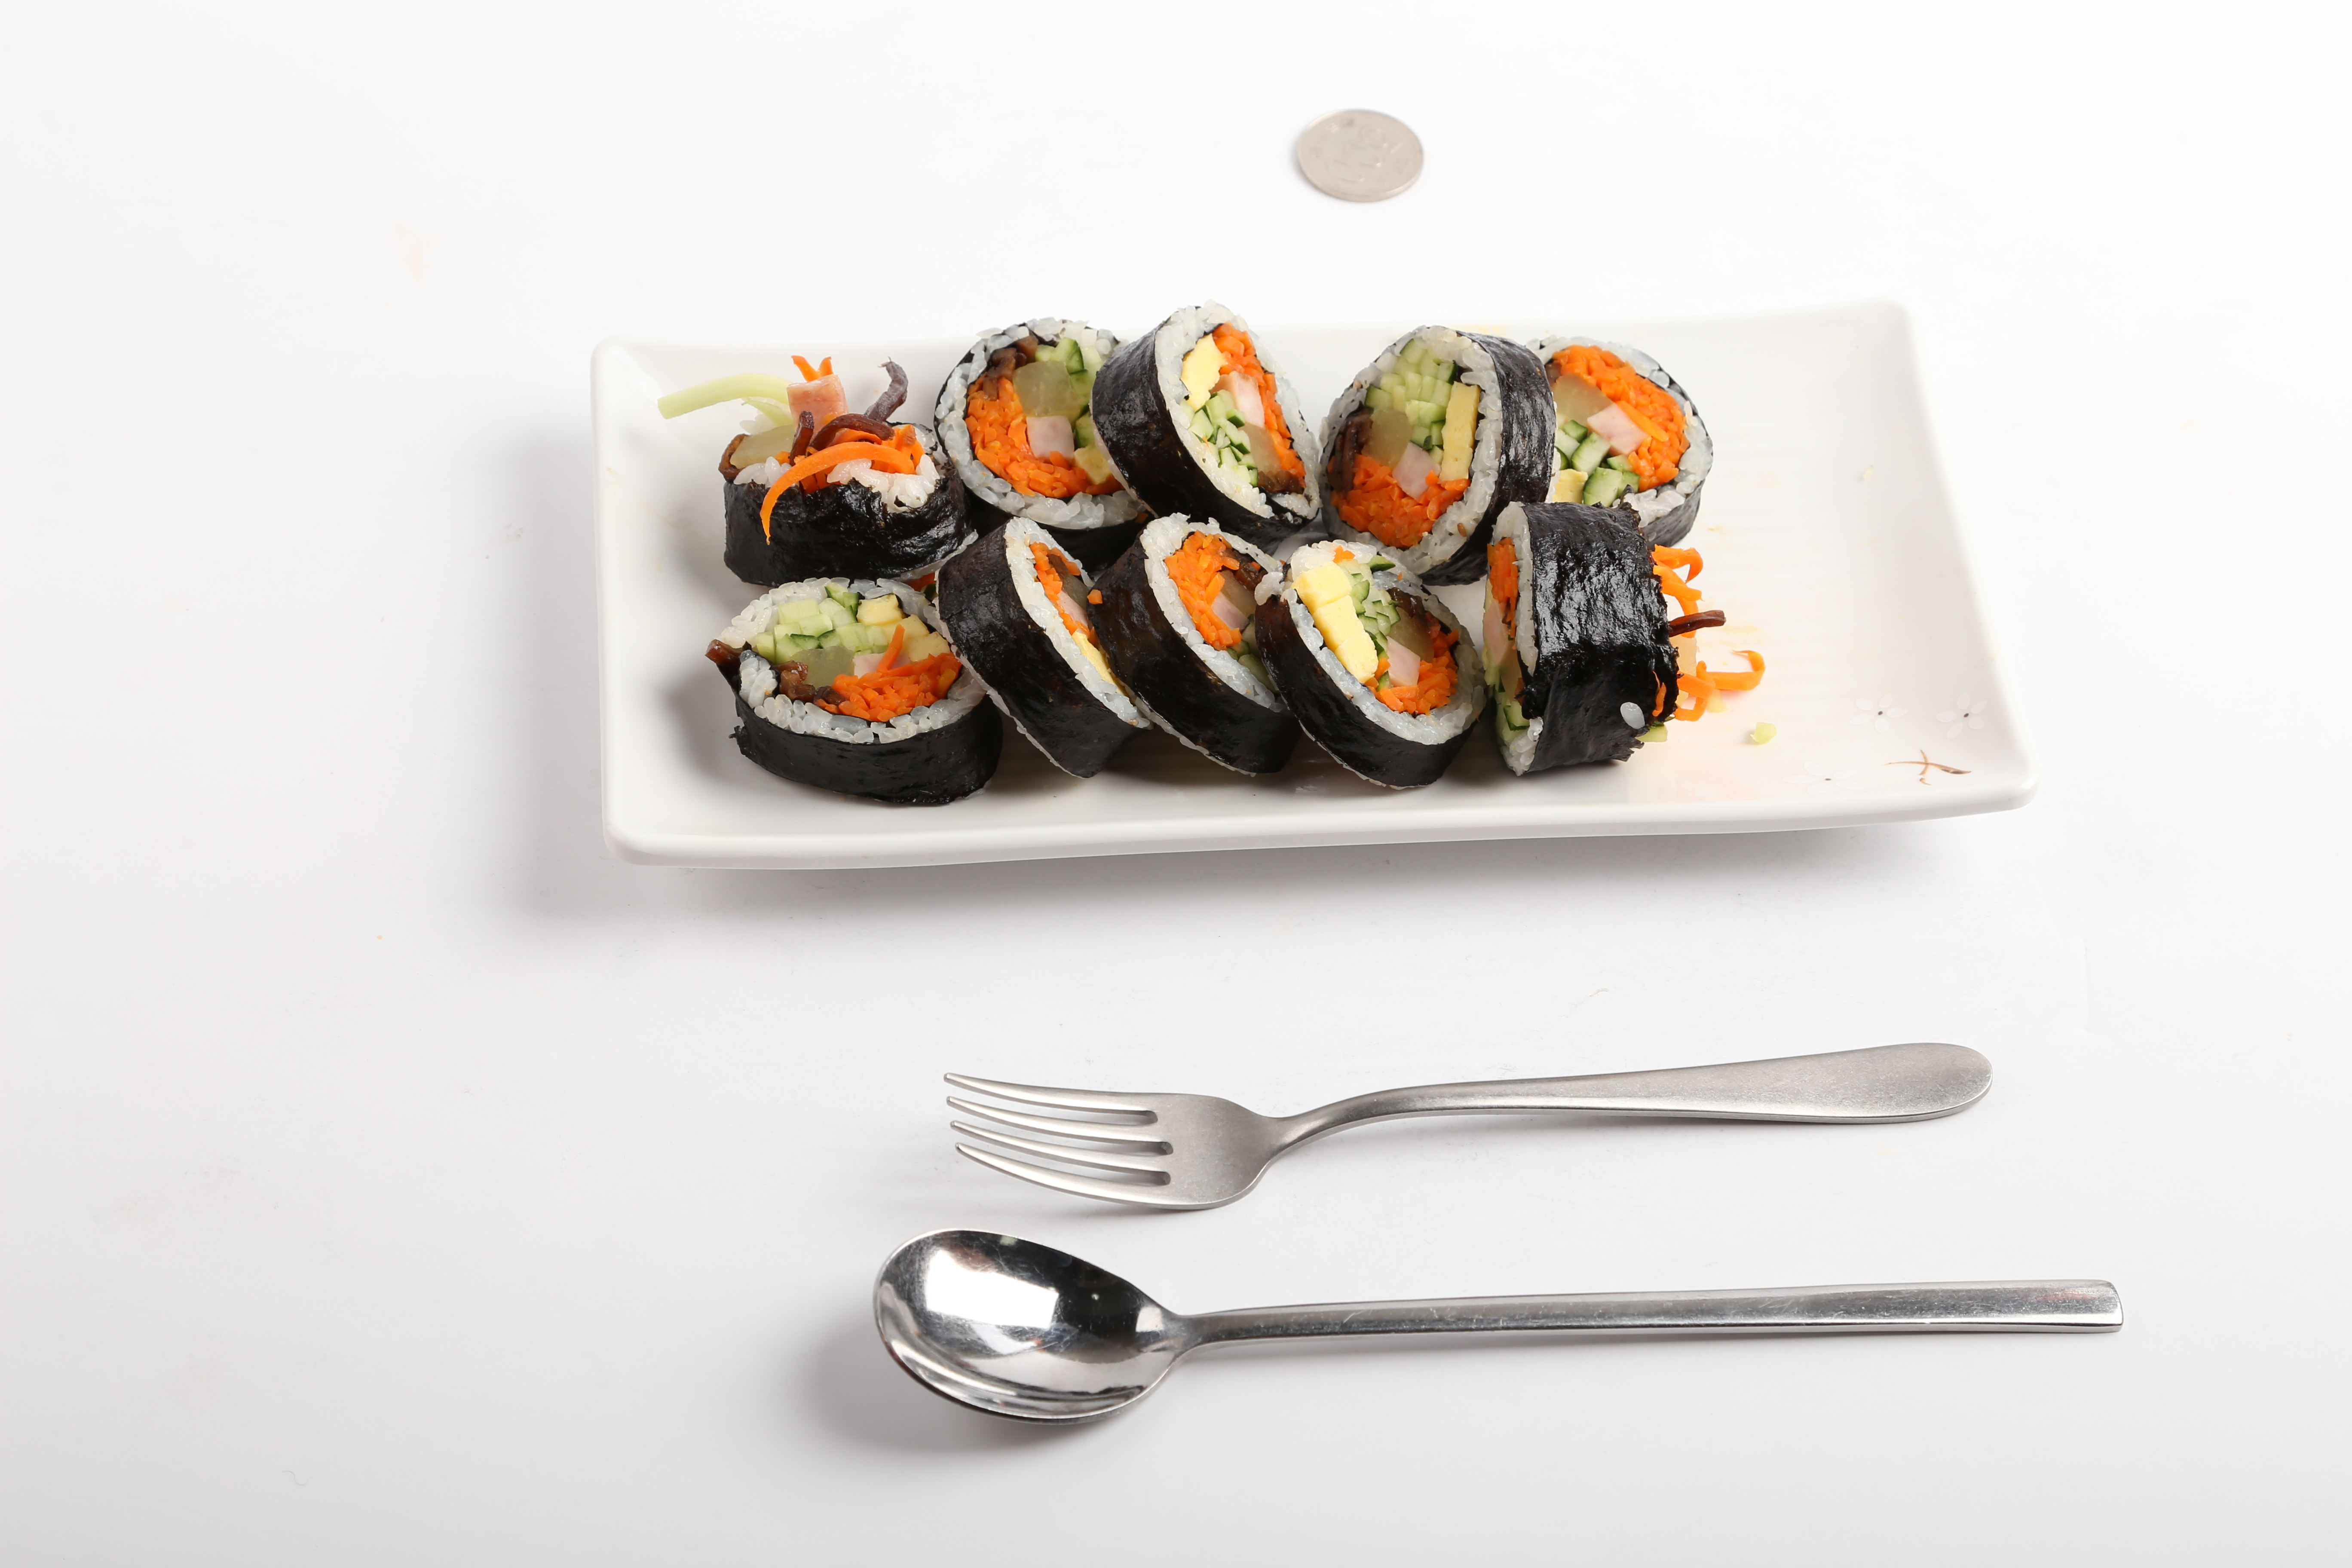dish: (595, 297, 2032, 877)
ref_coin: (1286, 98, 1428, 208)
ref_fork: (940, 1064, 1368, 1214)
ref_spoon: (863, 1223, 1298, 1426)
김밥: (716, 308, 1710, 807)
